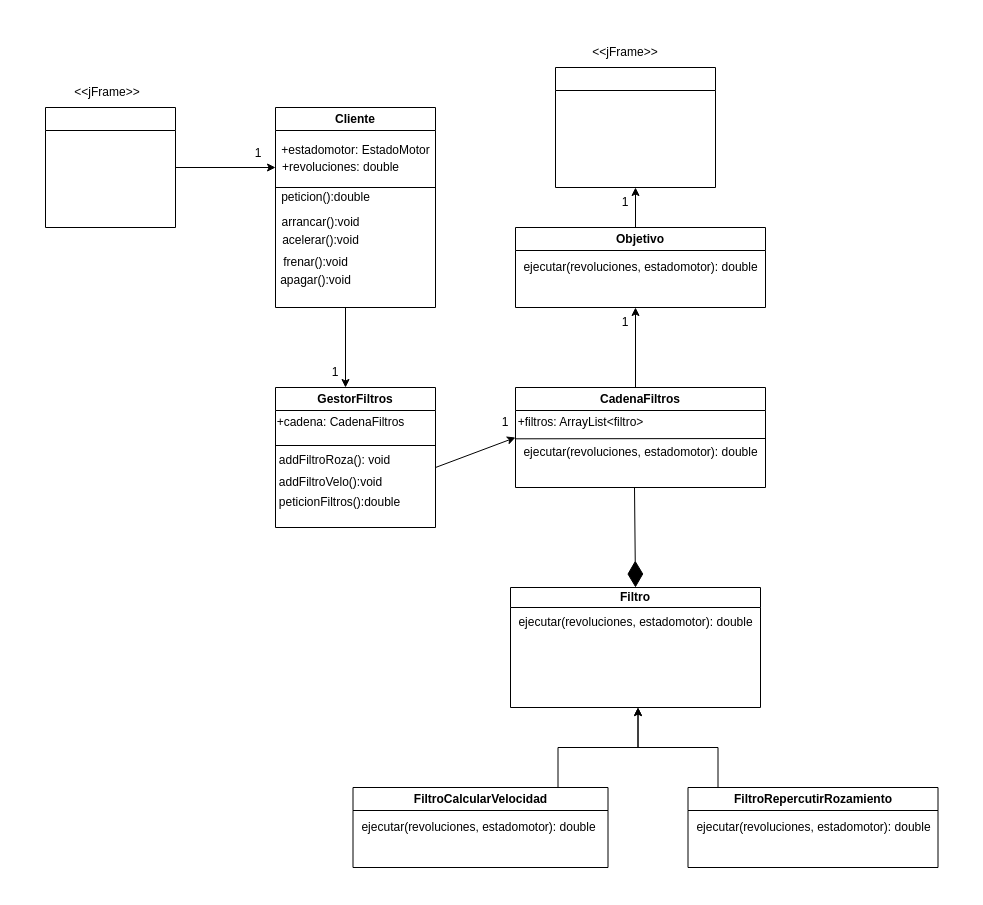
Some shapes in this 983 by 905 pixel diagram are drawn without their labels. Each missing label, with the centre of its shape:
"Info" belongs at point (635, 127).
"Soporte_Salpicadero" belongs at point (110, 167).
